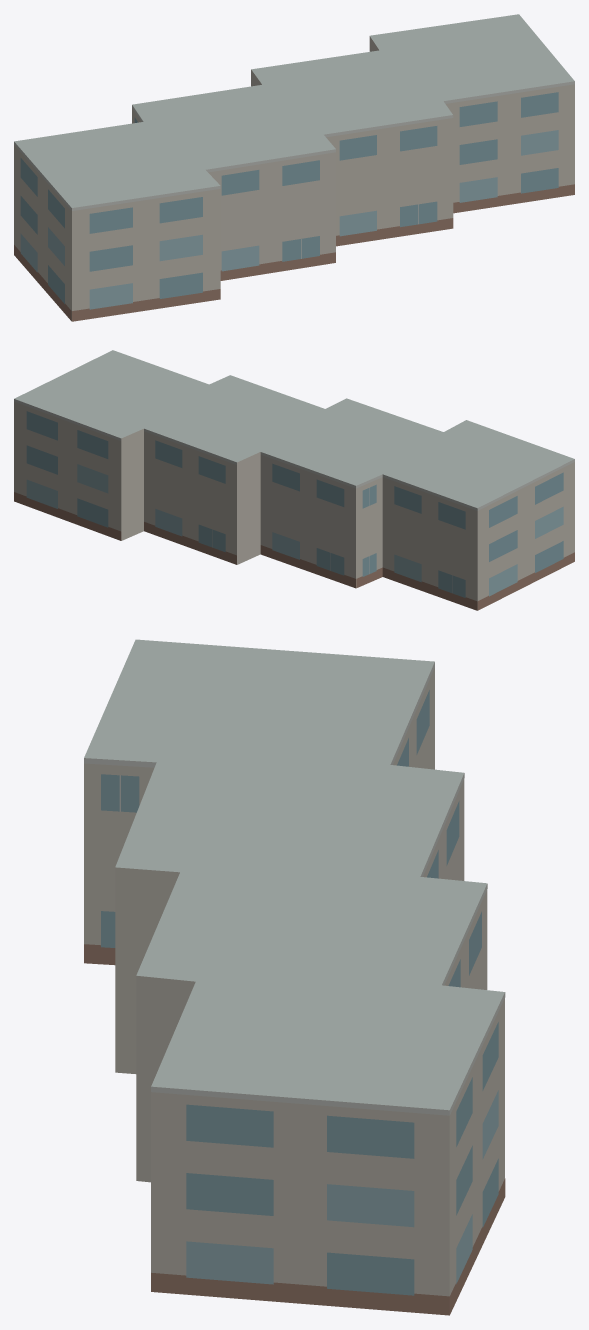
The model's file is survey-upis-32624995.glb.
3 renders of one model, top to bottom at view 1: azimuth 30°, elevation 25°; view 2: azimuth 150°, elevation 25°; view 3: azimuth 270°, elevation 25°, orthographic. The views are drawn at different scales.
Parts seen in each view (by area): view 1: survey-upis-32624995.tmp; view 2: survey-upis-32624995.tmp; view 3: survey-upis-32624995.tmp.
Boxes of the visible parts, bbox=[...] form: survey-upis-32624995.tmp: bbox=[14, 14, 574, 321]; survey-upis-32624995.tmp: bbox=[14, 350, 574, 610]; survey-upis-32624995.tmp: bbox=[84, 639, 505, 1315].
Bounding box in the file's own units: 45.03 × 9.15 × 17.03.
